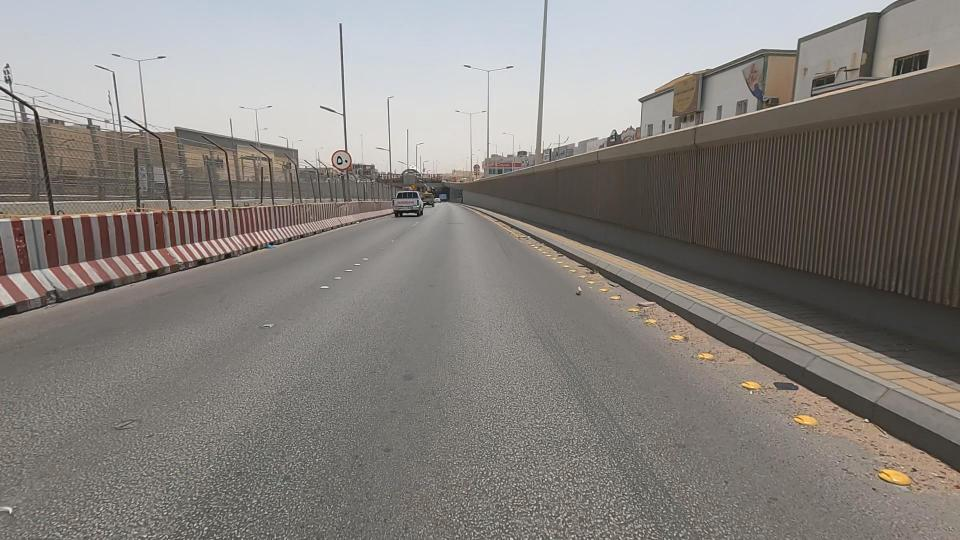CONSTRUCTION_ROAD: (0, 52, 347, 326), (226, 135, 420, 247)
